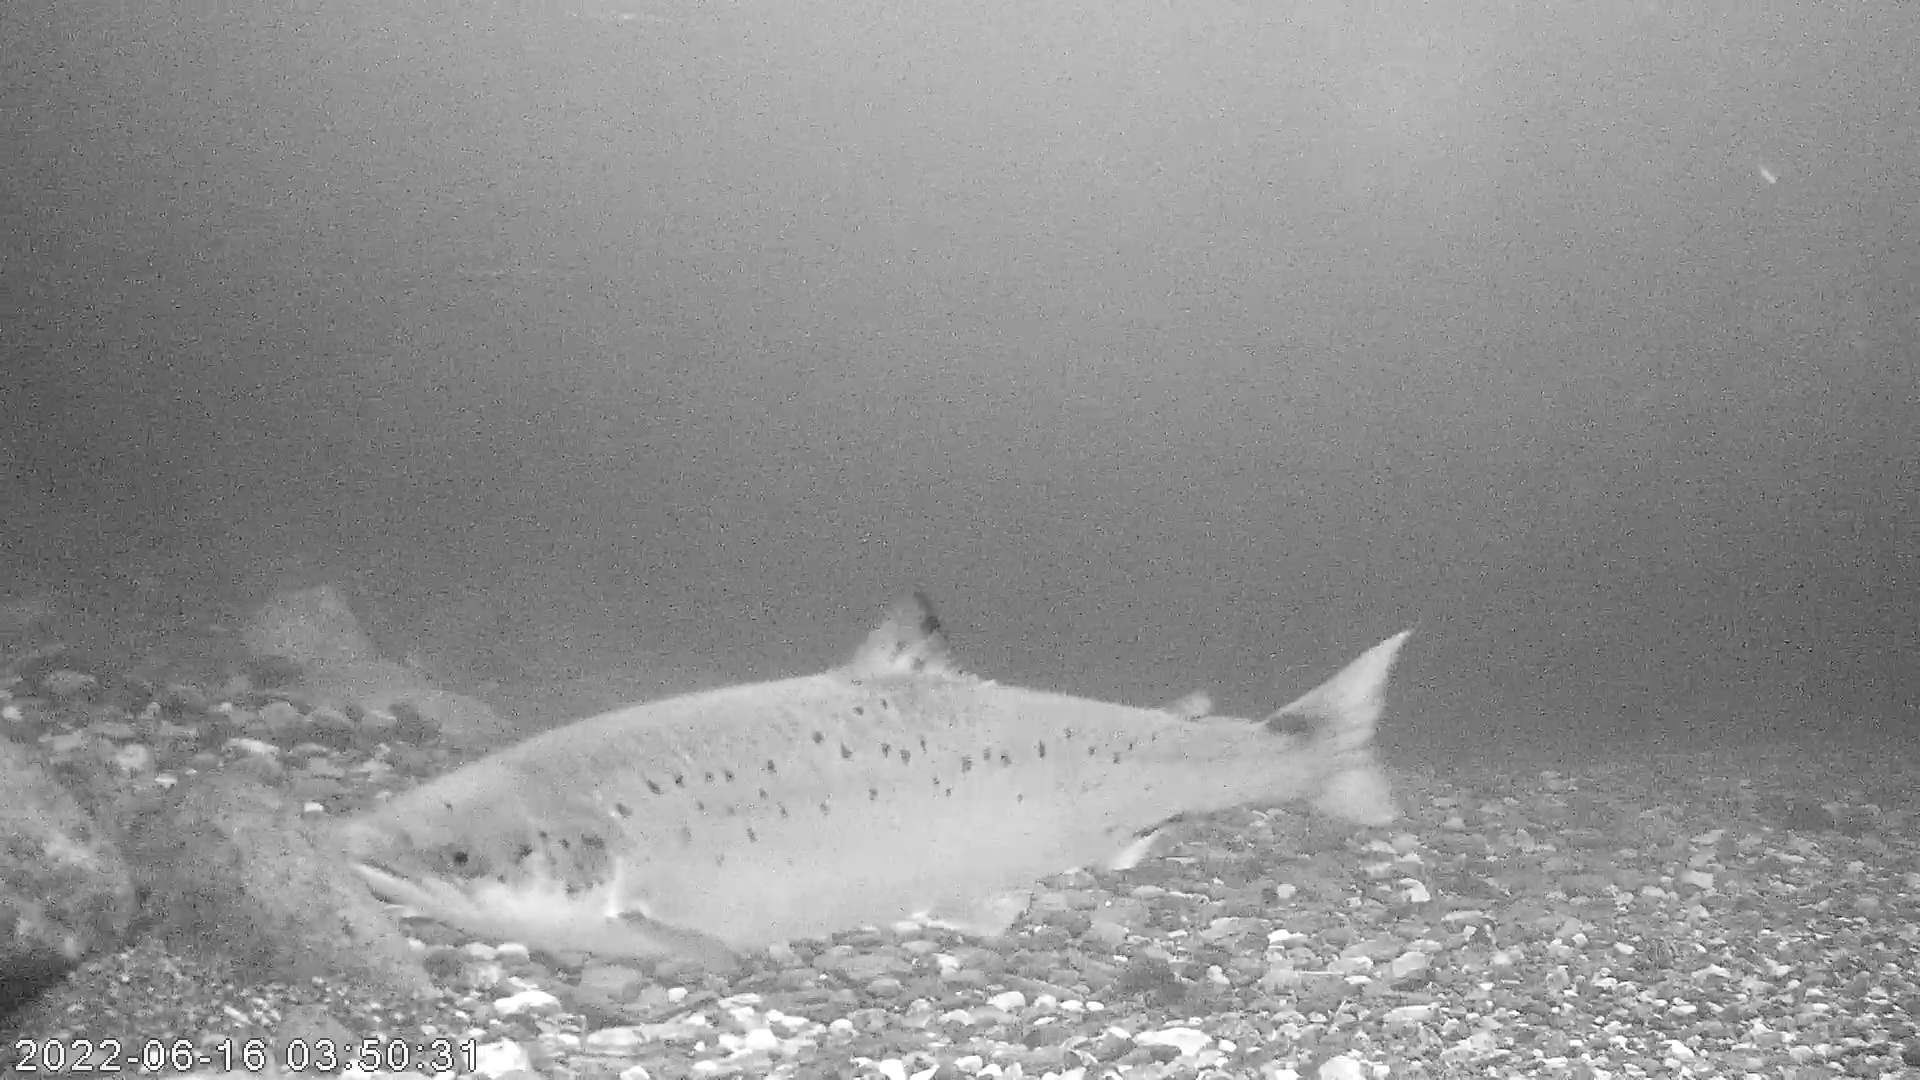salmon: (338, 587, 1415, 961)
